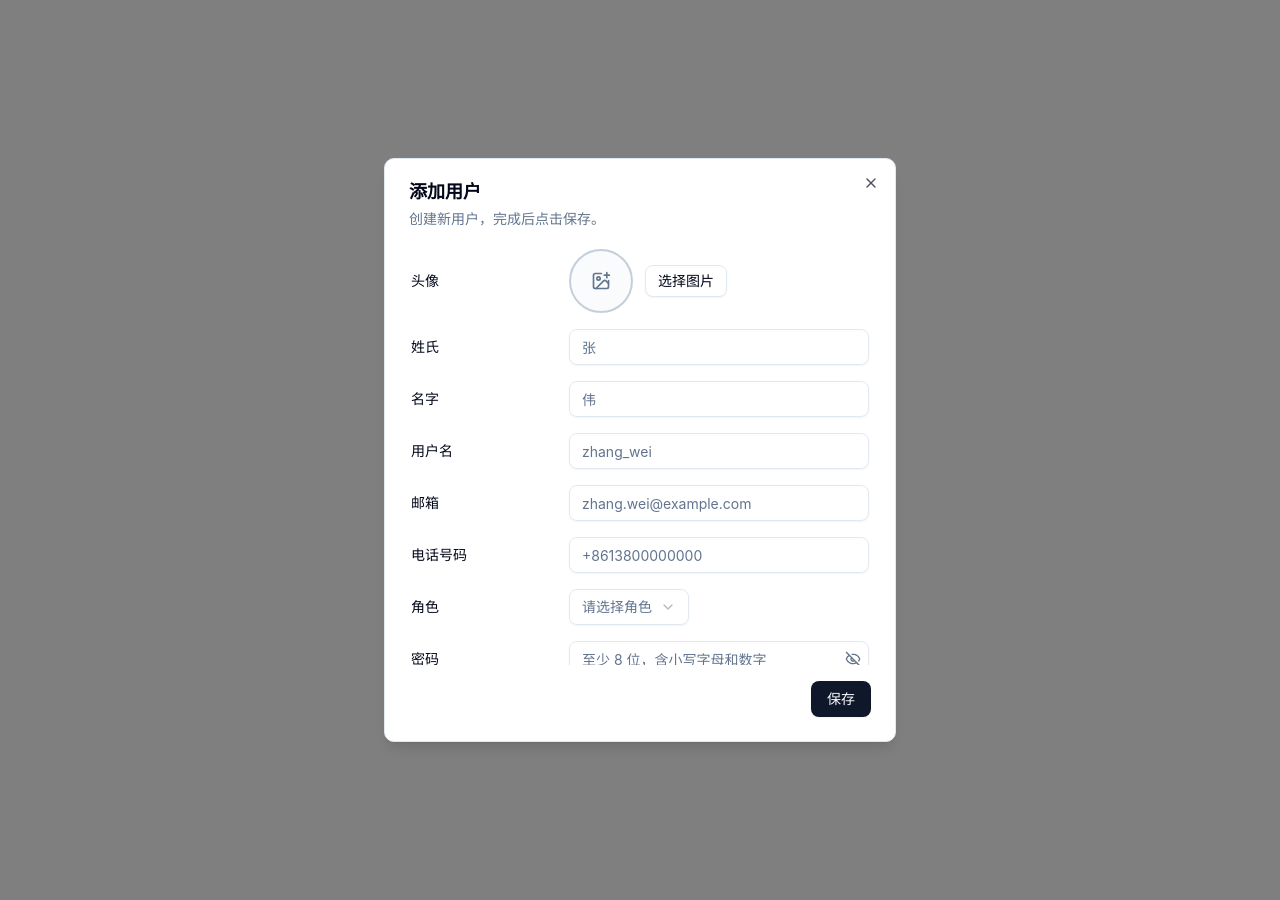
Test: UsersActionDialog › add user › shows validation messages when submitting empty form
This screenshot has width=1280, height=900.
Click the button "保存": (841, 699) [811, 681, 871, 717]
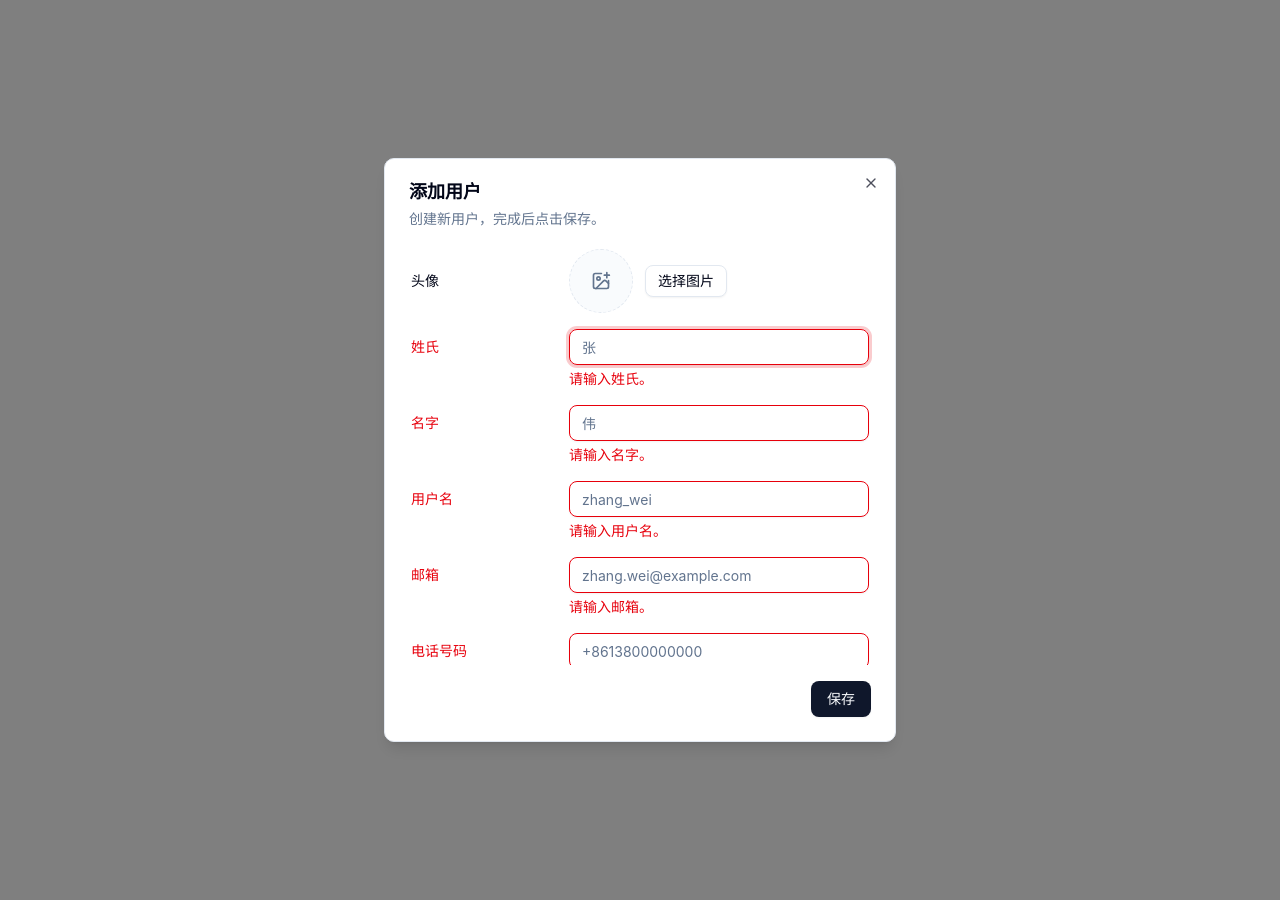
Expected: the text "请输入姓氏。" is shown, [569, 370, 653, 387]
Expected: the text "请输入名字。" is shown, [569, 446, 653, 463]
Expected: the text "请输入用户名。" is shown, [569, 522, 667, 539]
